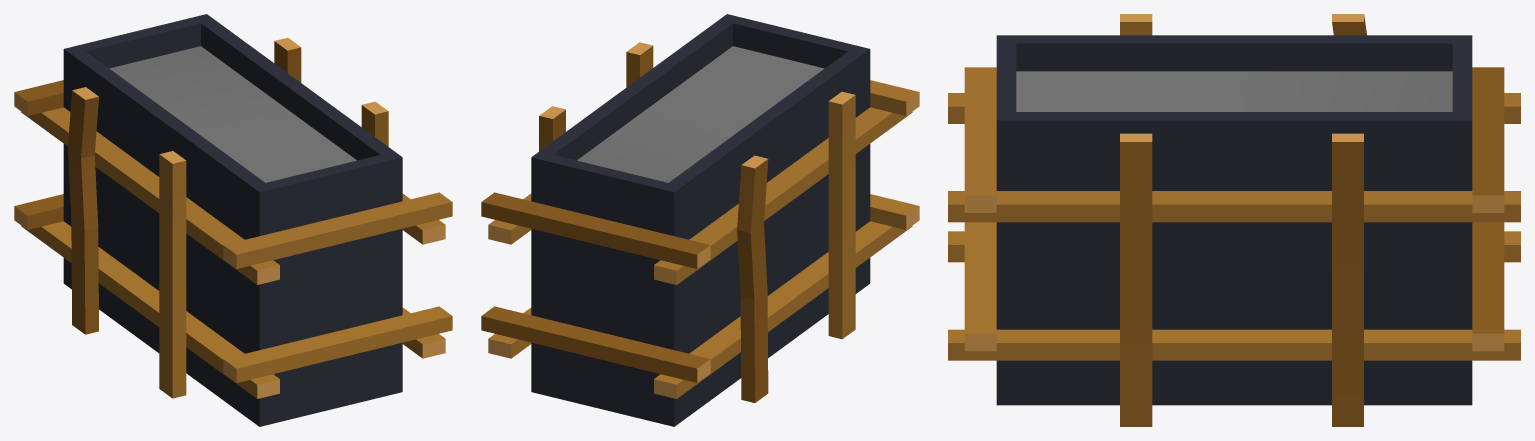
The model's file is ConcrateFrame_2_2.fbx.
The picture shows the model from 3 angles, left to right: view 1: azimuth 30°, elevation 25°; view 2: azimuth 150°, elevation 25°; view 3: azimuth 270°, elevation 25°; orthographic projection. The views are drawn at different scales.
Visible parts, largest first — view 1: ConcrateFrame_2_2; view 2: ConcrateFrame_2_2; view 3: ConcrateFrame_2_2.
Part boxes in pixels (box(x1,y1,x2,y2)): ConcrateFrame_2_2: box(14, 14, 452, 426); ConcrateFrame_2_2: box(481, 14, 919, 426); ConcrateFrame_2_2: box(948, 14, 1520, 426).
Bounding box in the file's own units: 139 × 144 × 263.
